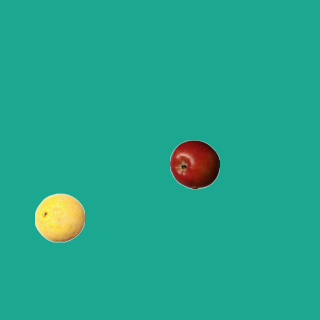Apple Braeburn: (169, 139, 219, 189)
Cantaloupe 1: (34, 192, 84, 242)
